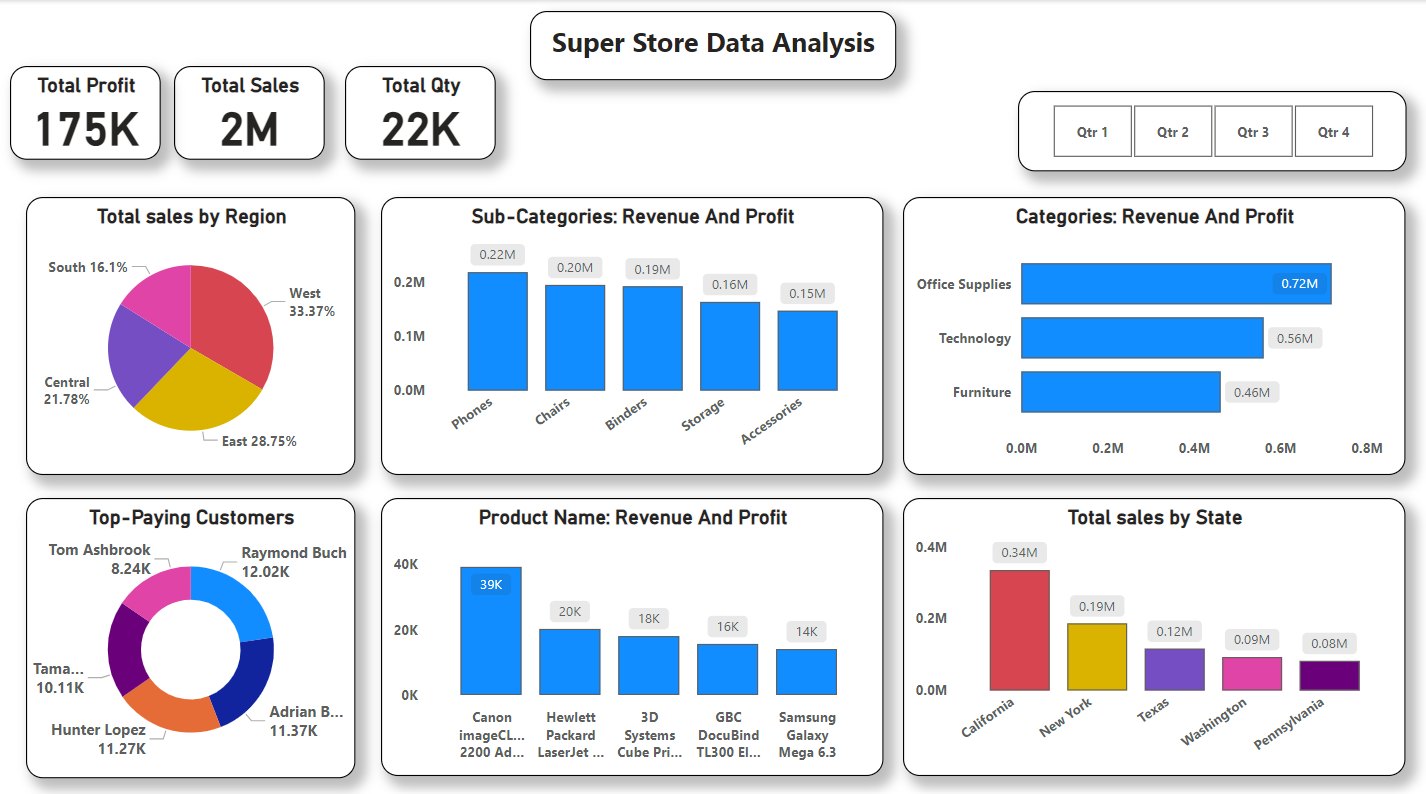

Layout of this report page (visuals, bound fields, positions):
{"tool":"powerbi","page":{"name":"Page 1","canvas":[1280,720],"ordinal":0},"visuals":[{"type":"textbox","box":[475.9,10.3,328.3,61.8],"z":0},{"type":"pieChart","title":"Total sales by Region","fields":{"Category":["SuperStore Data.Region"],"Y":["SuperStore Data.Sales"]},"box":[24,176.2,295.1,249.4],"z":1000},{"type":"columnChart","title":"Total sales by State","fields":{"Y":["SuperStore Data.Sales"],"Category":["SuperStore Data.State"]},"box":[809.9,446.1,449.5,249.4],"z":2000},{"type":"card","title":"Total Profit","fields":{"Values":["SuperStore Data.Profit"]},"box":[10.3,59.5,135,83.5],"z":3000},{"type":"card","title":"Total Sales","fields":{"Values":["SuperStore Data.Sales"]},"box":[156.7,59.5,135,83.5],"z":4000},{"type":"card","title":"Total Qty","fields":{"Values":["SuperStore Data.Quantity"]},"box":[310,59.5,135,83.5],"z":5000},{"type":"donutChart","title":"Top-Paying Customers ","fields":{"Category":["SuperStore Data.Customer Name"],"Y":["SuperStore Data.CombinedScore"]},"box":[24,446.1,295.1,250.5],"z":6000},{"type":"clusteredBarChart","title":"Categories: Revenue And Profit","fields":{"Category":["SuperStore Data.Category"],"Y":["SuperStore Data.CombinedScore"]},"box":[809.9,176.2,449.5,249.4],"z":7000},{"type":"columnChart","title":"Sub-Categories: Revenue And Profit","fields":{"Category":["SuperStore Data.Sub-Category"],"Y":["SuperStore Data.CombinedScore"]},"box":[342,176.2,449.5,249.4],"z":8000},{"type":"columnChart","title":"Product Name: Revenue And Profit","fields":{"Category":["SuperStore Data.Product Name"],"Y":["SuperStore Data.CombinedScore"]},"box":[342,446.1,449.5,249.4],"z":9000},{"type":"slicer","fields":{"Values":["SuperStore Data.Order Date.Variation.Date Hierarchy.Quarter"]},"box":[912.1,81.6,347.7,71.6],"z":10000}]}

Visuals, with their boxes in screenshot pixels (x1, y1, x2, y2), scaled from the page's 1280x720 canvas onto the 1426x794 screenshot:
textbox: [left=530, top=11, right=896, bottom=80]
"Total sales by Region" pieChart: [left=27, top=194, right=355, bottom=469]
"Total sales by State" columnChart: [left=902, top=492, right=1403, bottom=767]
"Total Profit" card: [left=11, top=66, right=162, bottom=158]
"Total Sales" card: [left=175, top=66, right=325, bottom=158]
"Total Qty" card: [left=345, top=66, right=496, bottom=158]
"Top-Paying Customers " donutChart: [left=27, top=492, right=355, bottom=768]
"Categories: Revenue And Profit" clusteredBarChart: [left=902, top=194, right=1403, bottom=469]
"Sub-Categories: Revenue And Profit" columnChart: [left=381, top=194, right=882, bottom=469]
"Product Name: Revenue And Profit" columnChart: [left=381, top=492, right=882, bottom=767]
slicer - SuperStore Data.Order Date.Variation.Date Hierarchy.Quarter: [left=1016, top=90, right=1403, bottom=169]
